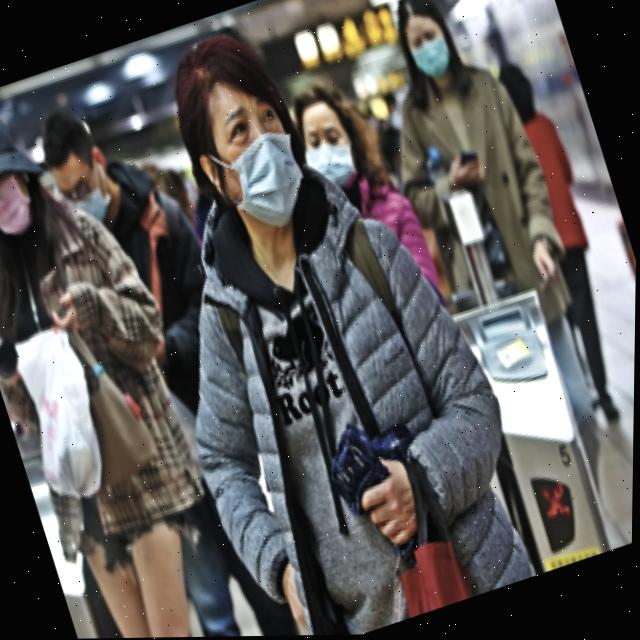Mask: (195, 122, 319, 238), (303, 138, 367, 201), (0, 170, 43, 242), (65, 178, 118, 233), (406, 34, 461, 81)
